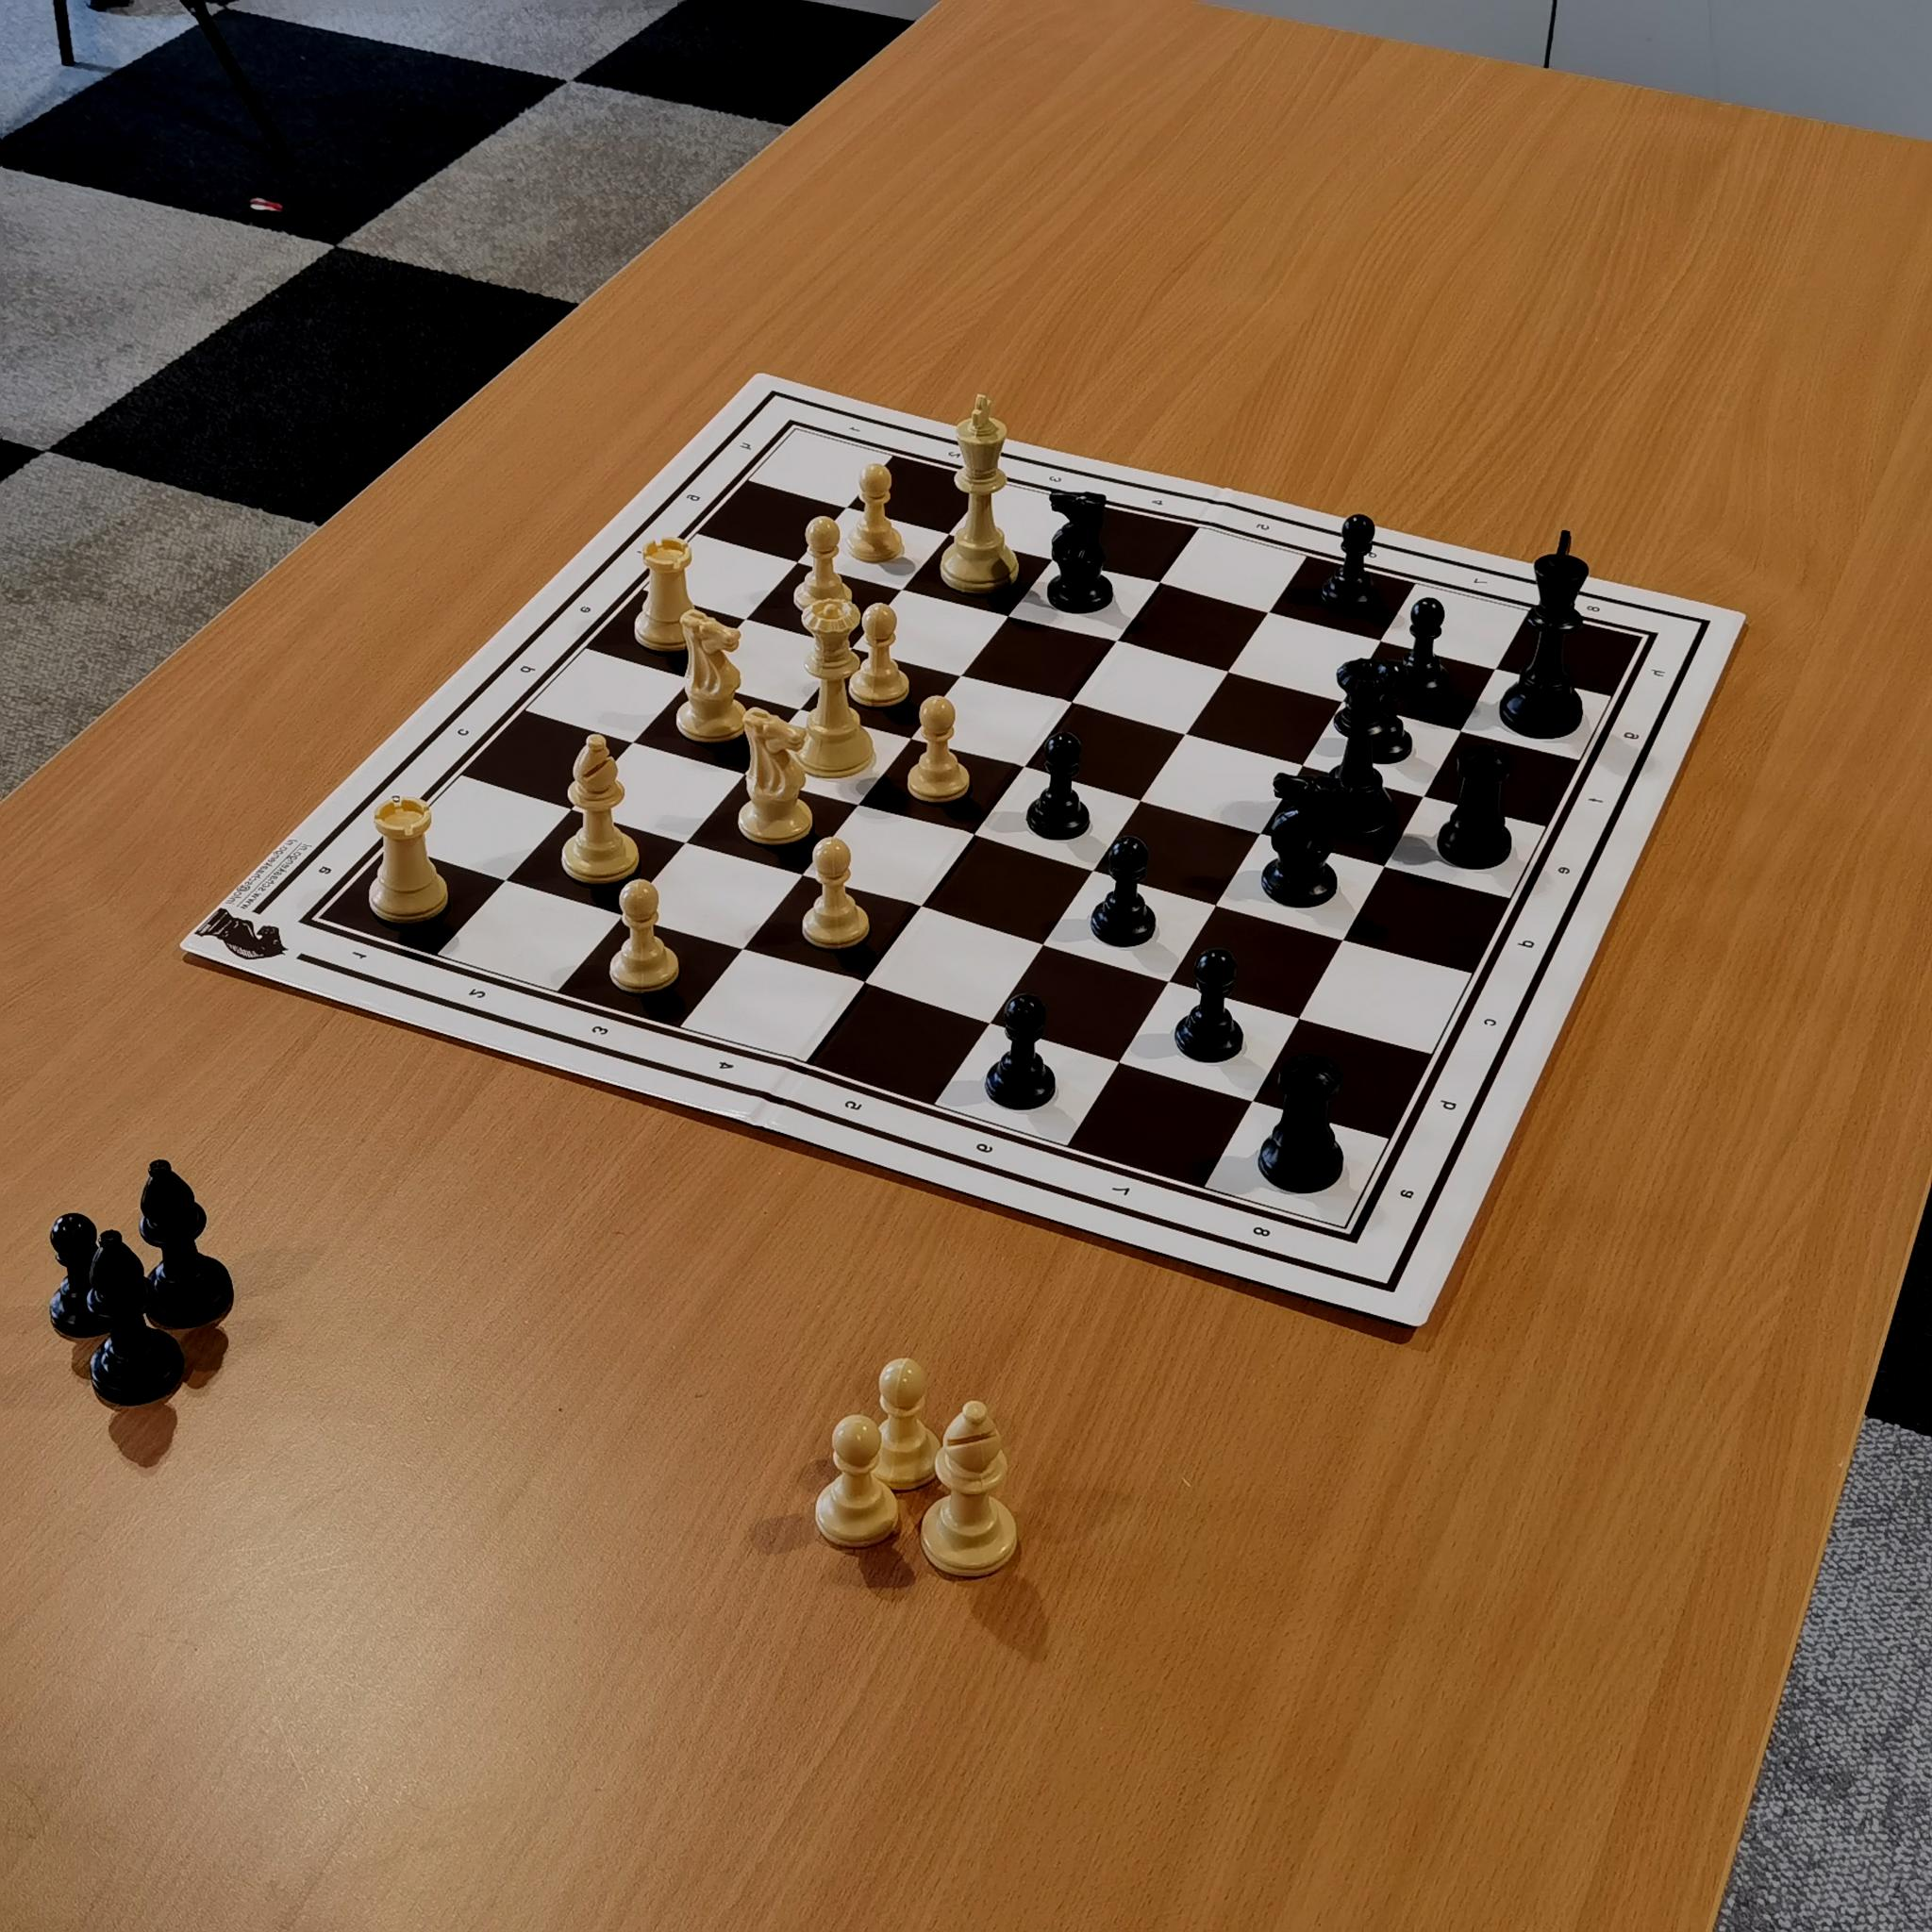corners: (283, 902, 331, 952), (1619, 623, 1665, 656), (1336, 1223, 1373, 1260), (768, 412, 807, 446)
eight: (1237, 1207, 1284, 1251), (1575, 587, 1605, 621)
one: (334, 934, 386, 977), (837, 412, 867, 446)
